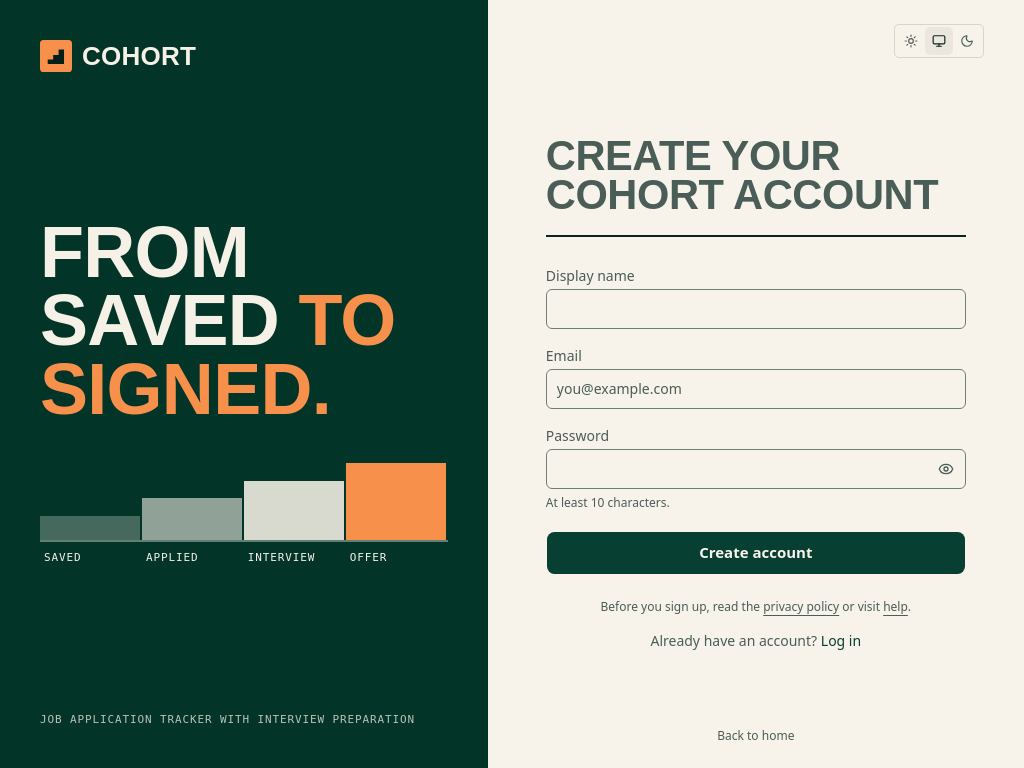
it: RegisterPage › shows a generic conflict message without confirming the email is registered
Type "Jane Doe" into the field labelled "Display name". click: (756, 308)
box: [546,288,966,328]
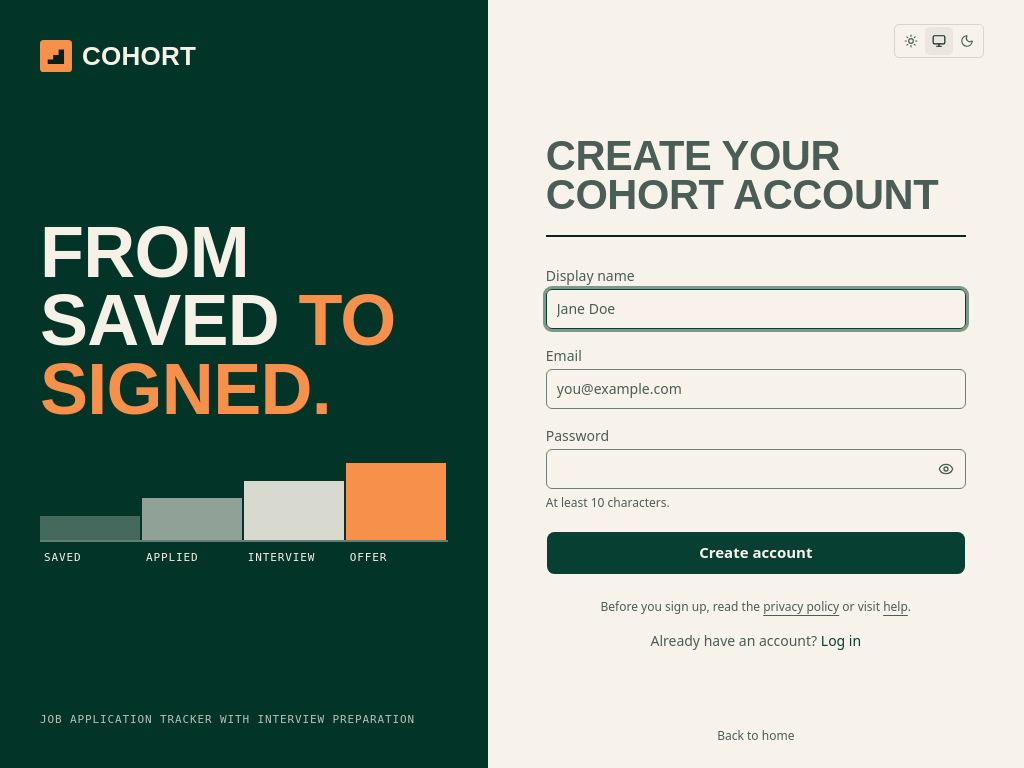
Type "jane@example.com" into the field labelled "Email". click: (756, 388)
box: [546,368,966,408]
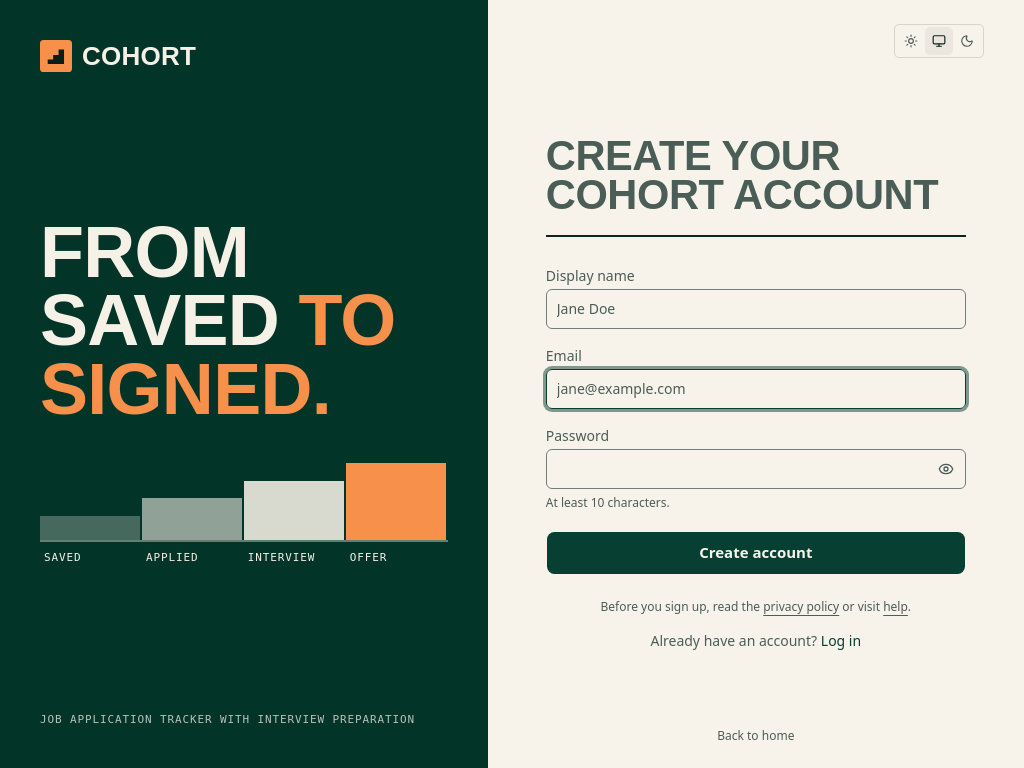
Type "correcthorsebattery" into the password field labelled "Password". click: (756, 468)
box: [546,448,966,488]
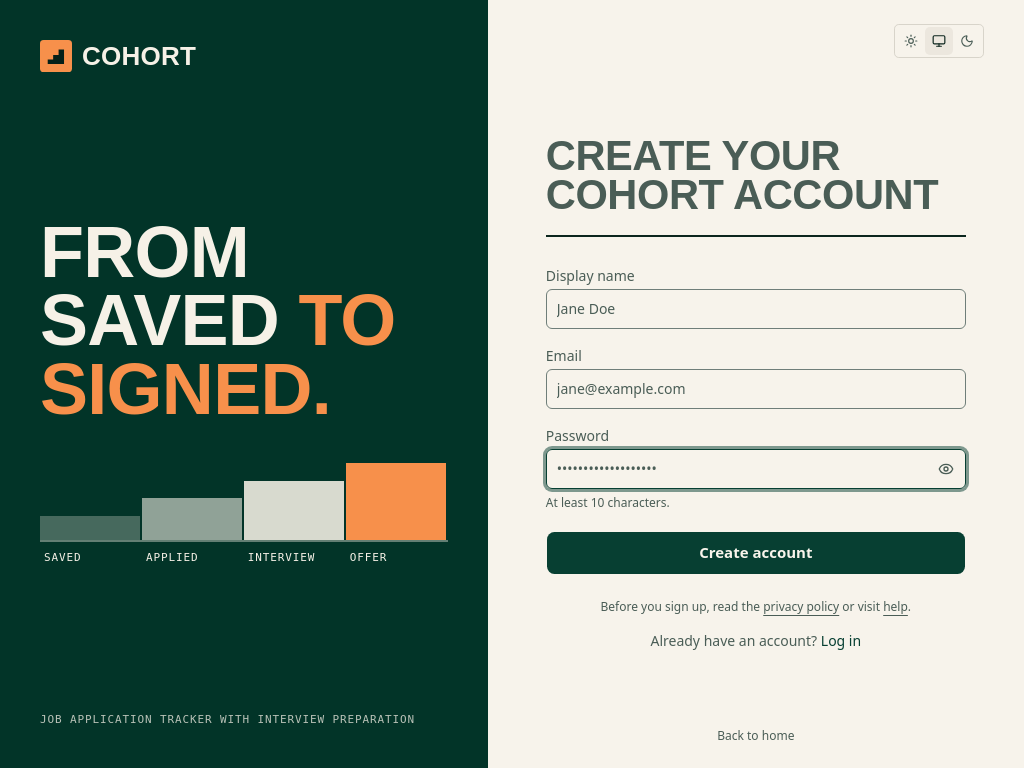
Click the button "Create account". click: click(756, 552)
box: [546,530,966,574]
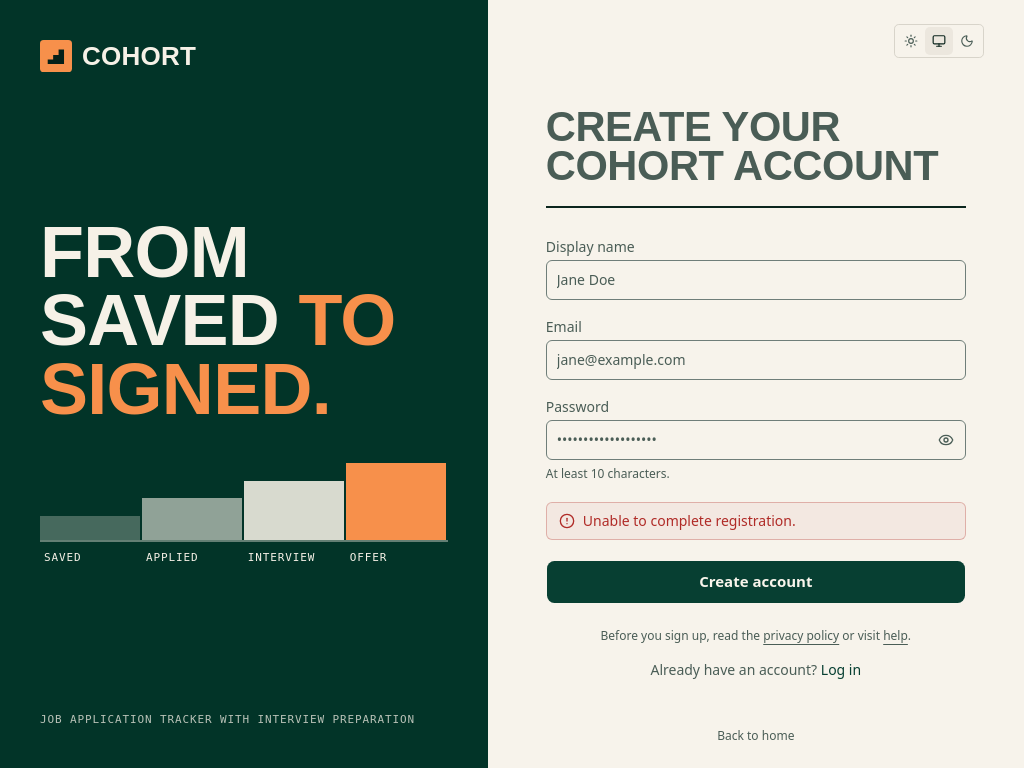
Expected: the message reads "Unable to complete registration.", [583,510,796,530]
